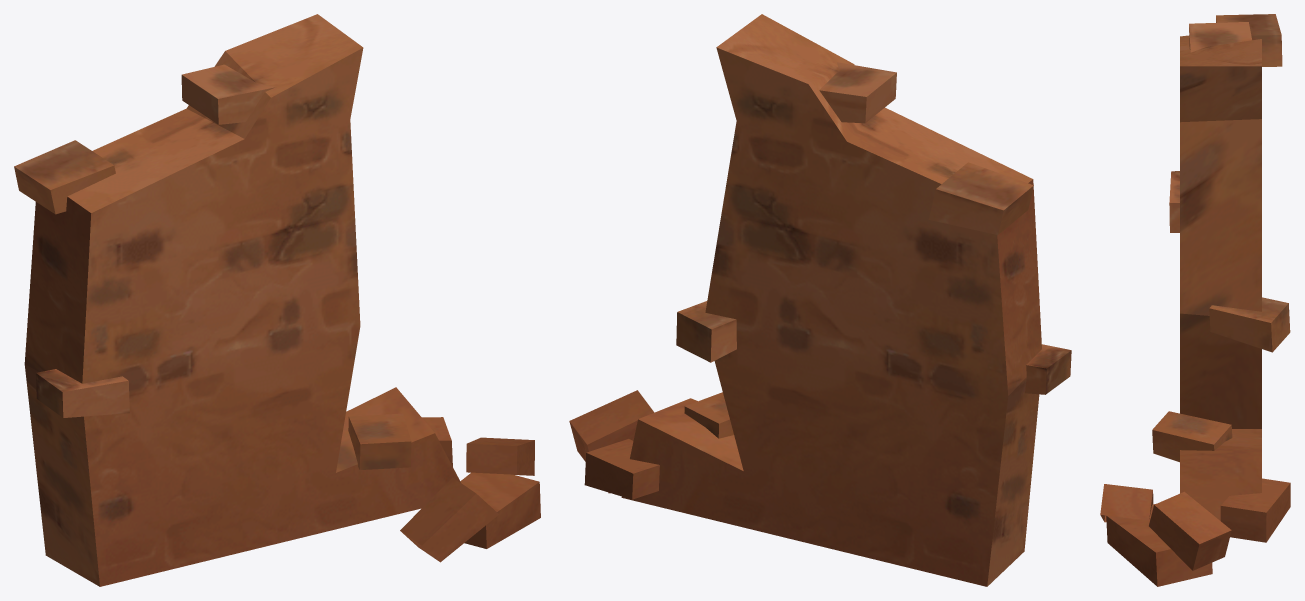
Rendered from oBldWalDirt01C.FBX.
The picture shows the model from 3 angles, left to right: view 1: azimuth 30°, elevation 25°; view 2: azimuth 150°, elevation 25°; view 3: azimuth 270°, elevation 25°; orthographic projection. The views are drawn at different scales.
Parts seen in each view (by area): view 1: oBldWalDirt01C; view 2: oBldWalDirt01C; view 3: oBldWalDirt01C.
Part boxes in pixels (x1,y1,x2,y2): oBldWalDirt01C: (14,14,540,586); oBldWalDirt01C: (569,14,1071,586); oBldWalDirt01C: (1100,14,1290,586).
Bounding box in the file's own units: 13.45 × 13.17 × 5.07.
1 material, 1 textured.
